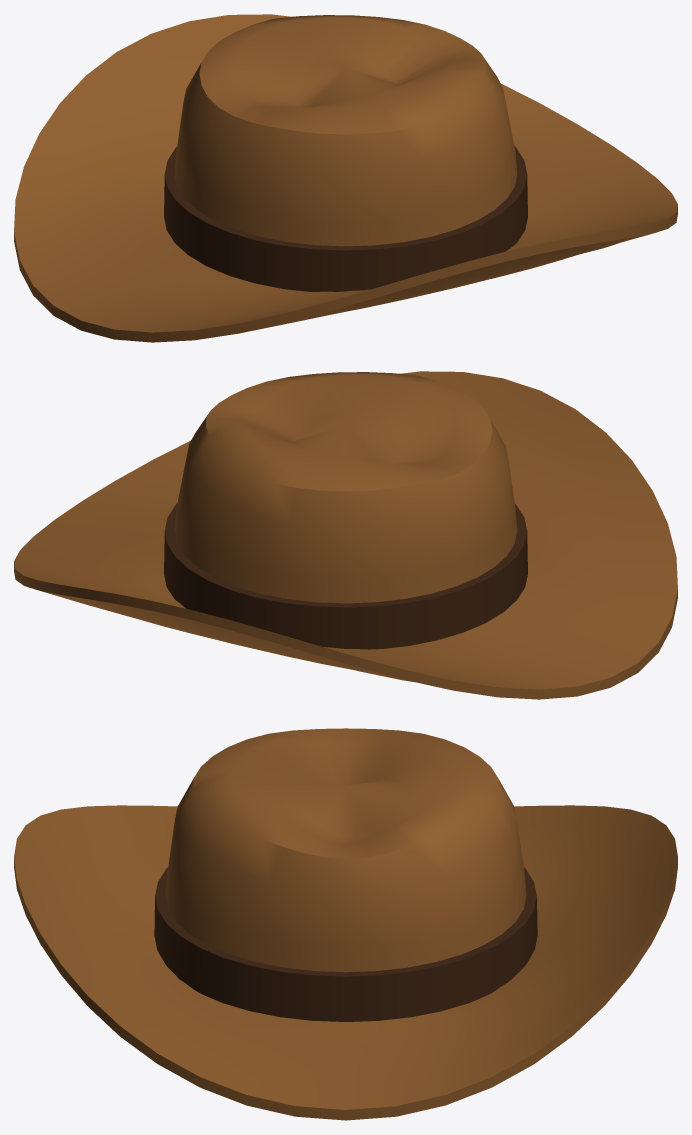
The model's file is acc_cowboy.glb.
The picture shows the model from 3 angles, top to bottom: view 1: azimuth 30°, elevation 25°; view 2: azimuth 150°, elevation 25°; view 3: azimuth 270°, elevation 25°; orthographic projection. The views are drawn at different scales.
Visible parts, largest first — view 1: CowboyHat; view 2: CowboyHat; view 3: CowboyHat.
Boxes of the visible parts, box(x1,y1,x2,y2) form: CowboyHat: box(14, 14, 677, 342); CowboyHat: box(14, 371, 677, 699); CowboyHat: box(14, 728, 677, 1120).
Size of the model in its own units: 0.856 by 0.2558 by 0.8.
